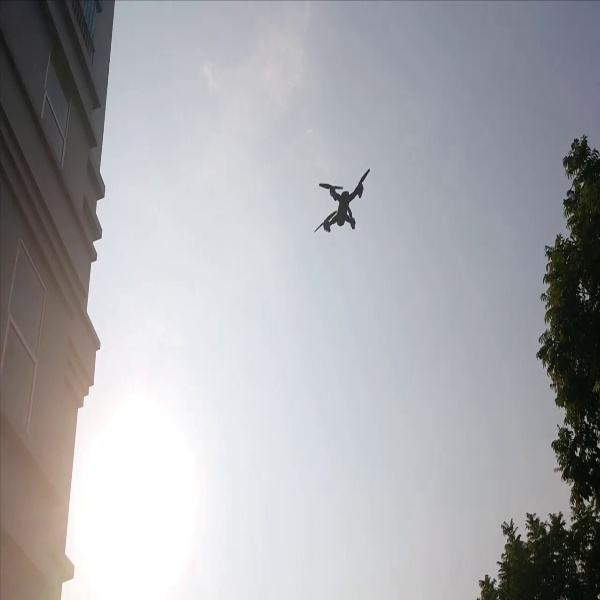drone: (308, 165, 374, 239)
